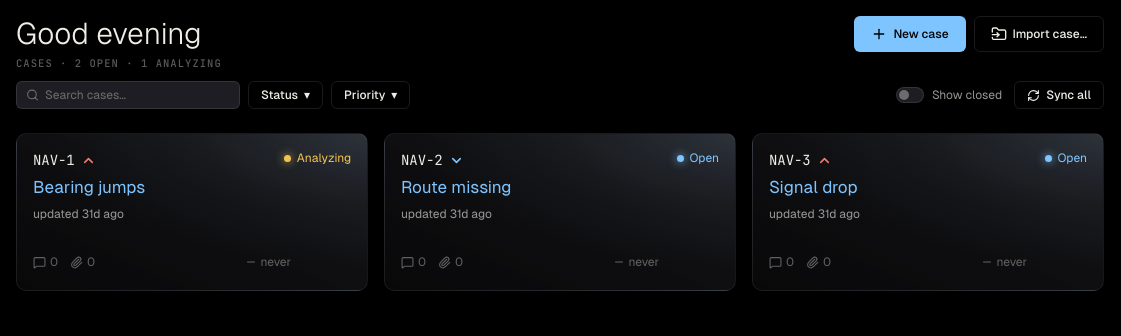
Scenario: CaseDashboard › narrows by status AND priority together, not just one filter at a time
The image size is (1121, 336).
Click the button "Status ▾".
click(286, 95)  # box [248, 81, 323, 109]
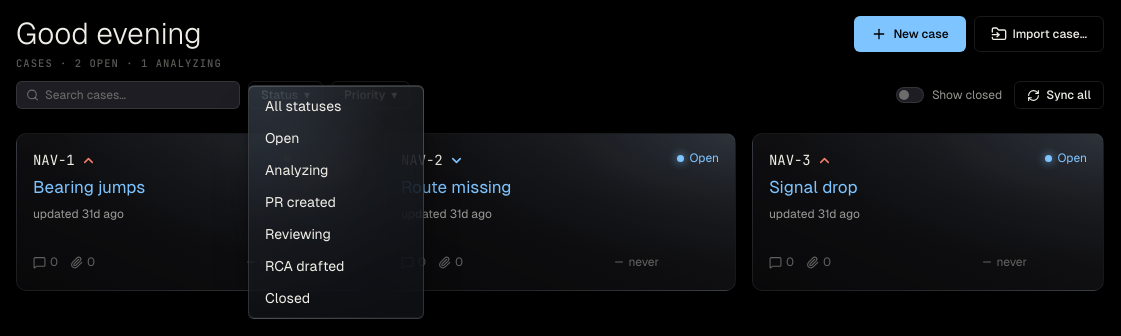
Click the menu item "Open".
click(336, 138)  # box [253, 122, 419, 154]
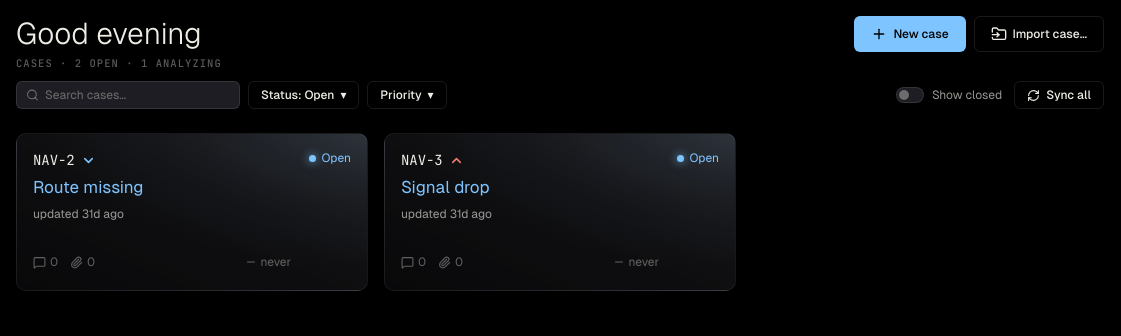
Click the button "Priority ▾".
click(407, 95)  # box [367, 81, 446, 109]
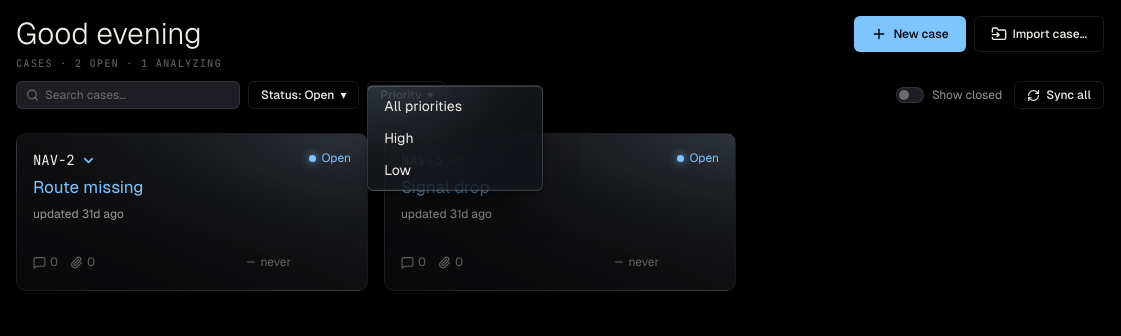
Click the menu item "High".
click(455, 138)  # box [372, 122, 538, 154]
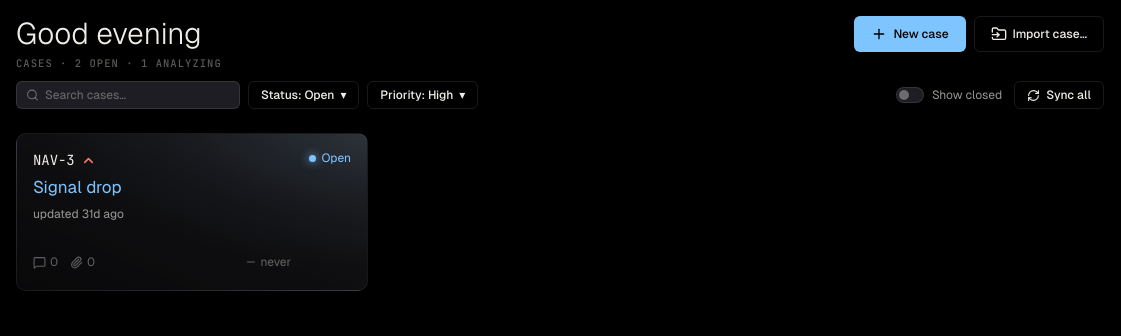
Expected: the heading "Signal drop" is shown, [33, 177, 122, 197]
Result: the heading "Route missing" is gone
